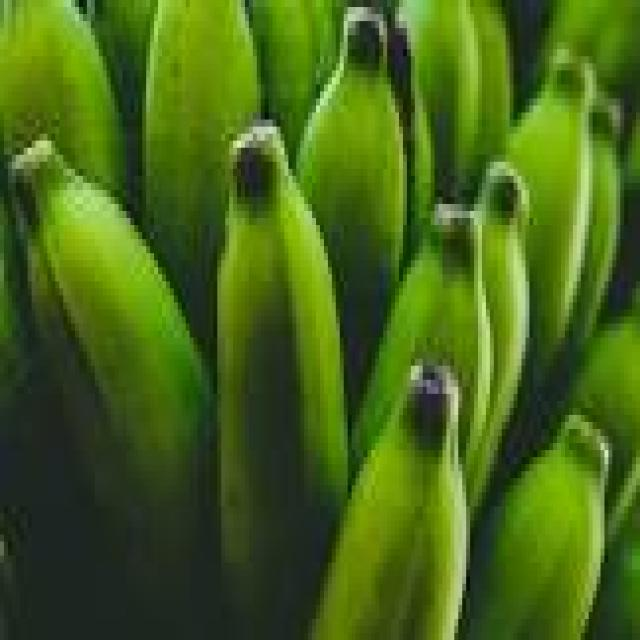banana: (12, 141, 213, 639), (218, 127, 347, 639), (297, 8, 406, 414), (313, 366, 466, 639), (143, 0, 260, 351), (352, 204, 493, 471), (463, 415, 608, 639), (506, 50, 592, 386), (0, 0, 126, 196), (467, 162, 529, 513), (565, 296, 639, 534), (400, 0, 481, 196), (83, 0, 158, 210), (569, 92, 624, 351), (249, 0, 339, 154), (388, 22, 434, 267), (542, 0, 639, 98), (471, 0, 513, 182), (585, 500, 639, 639), (605, 113, 639, 316), (0, 204, 27, 443), (502, 0, 557, 105), (538, 0, 612, 70), (593, 0, 639, 105), (0, 535, 15, 639)
